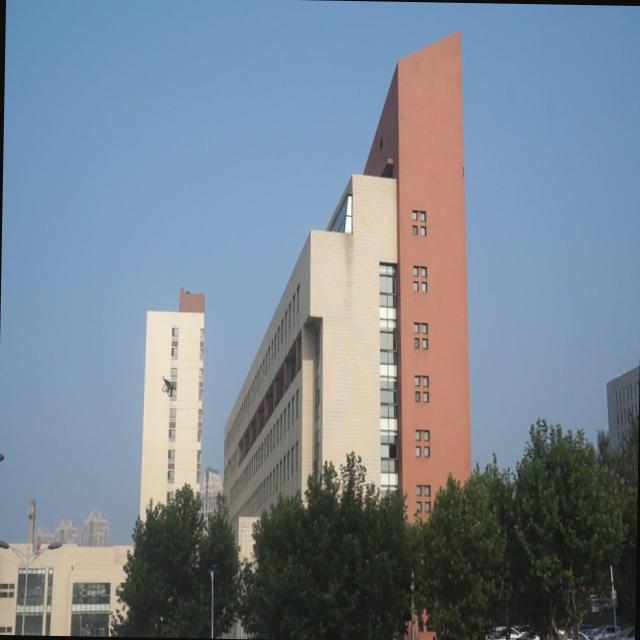drone: (160, 372, 179, 398)
